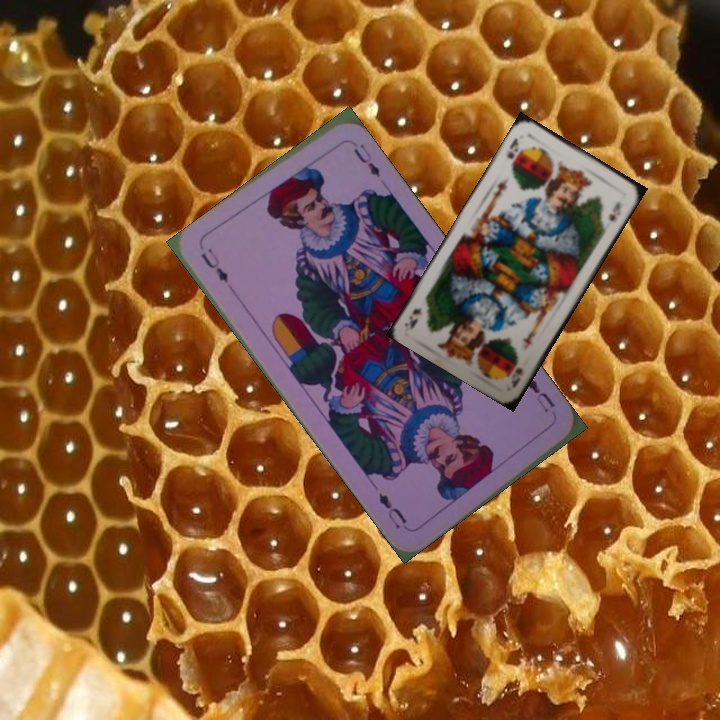EU: (196, 244, 231, 287), (523, 374, 558, 416)
SK: (503, 134, 522, 162), (507, 363, 525, 391)
